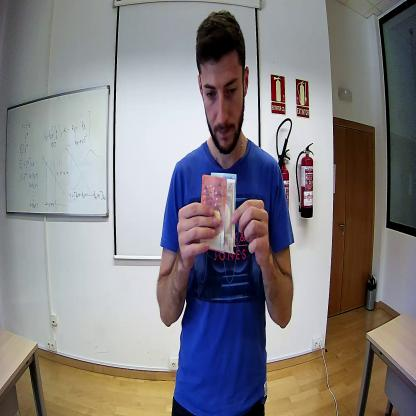billete: (199, 173, 227, 254), (210, 172, 237, 254)
